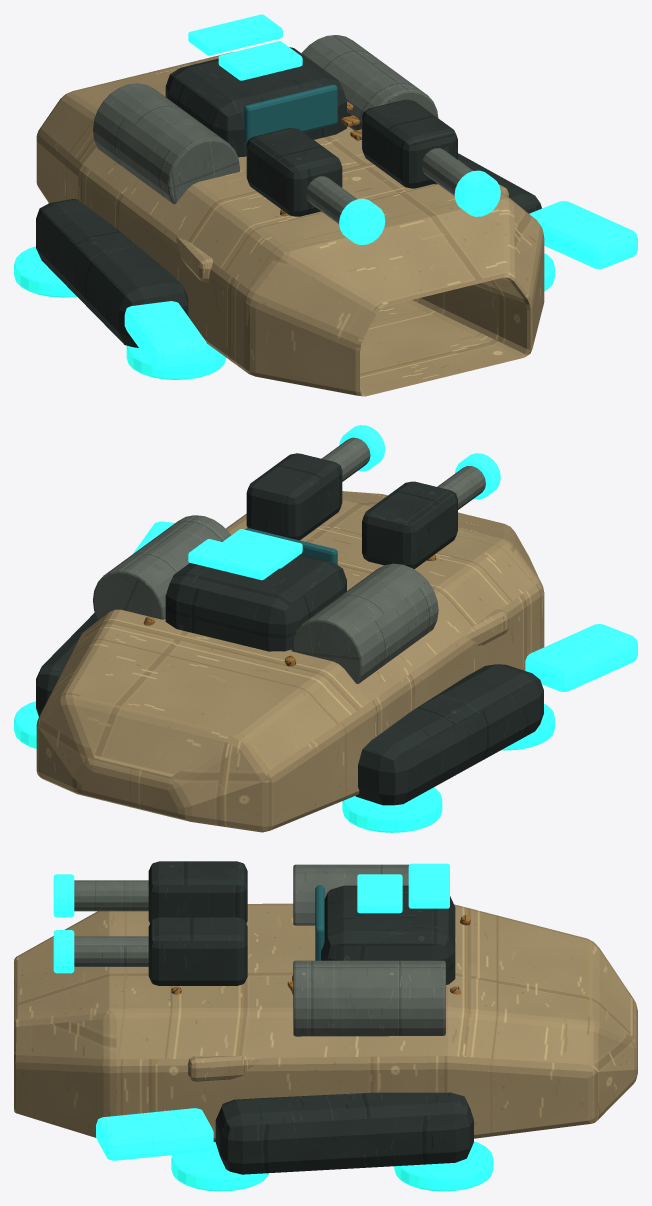
Rendered from lancer.glb.
3 renders of one model, top to bottom at view 1: azimuth 30°, elevation 25°; view 2: azimuth 150°, elevation 25°; view 3: azimuth 270°, elevation 25°, orthographic.
Parts seen in each view (by area): view 1: Prism lancer · swept hover skimmer, Static · Vehicle / dark, TeamColor, Static · Vehicle / steel, Static · Vehicle / energy, Forward prism canopy, Coherent beam lance, Static · Vehicle / armor_light; view 2: Prism lancer · swept hover skimmer, Static · Vehicle / dark, Static · Vehicle / steel, TeamColor, Static · Vehicle / energy, Coherent beam lance, Static · Vehicle / armor_light, Forward prism canopy; view 3: Prism lancer · swept hover skimmer, Static · Vehicle / dark, Static · Vehicle / steel, TeamColor, Static · Vehicle / energy, Coherent beam lance, Static · Vehicle / armor_light, Forward prism canopy.
Part boxes in pixels (x1,y1,x2,y2): Prism lancer · swept hover skimmer: (36, 52, 544, 396); Static · Vehicle / dark: (36, 47, 541, 347); TeamColor: (124, 14, 637, 371); Static · Vehicle / steel: (93, 35, 472, 204); Static · Vehicle / energy: (14, 246, 554, 379); Forward prism canopy: (244, 84, 337, 145); Coherent beam lance: (306, 176, 357, 223); Static · Vehicle / armor_light: (176, 170, 508, 282); Prism lancer · swept hover skimmer: (36, 491, 544, 832); Static · Vehicle / dark: (36, 453, 543, 805); Static · Vehicle / steel: (93, 437, 438, 683); TeamColor: (132, 425, 637, 691); Static · Vehicle / energy: (14, 701, 554, 832); Coherent beam lance: (437, 466, 485, 509); Static · Vehicle / armor_light: (464, 609, 508, 645); Forward prism canopy: (245, 528, 337, 564); Prism lancer · swept hover skimmer: (14, 903, 637, 1141); Static · Vehicle / dark: (148, 861, 473, 1174); Static · Vehicle / steel: (74, 864, 445, 1036); TeamColor: (53, 863, 449, 1160); Static · Vehicle / energy: (171, 1141, 493, 1191); Coherent beam lance: (74, 880, 148, 911); Static · Vehicle / armor_light: (187, 1056, 260, 1081); Forward prism canopy: (315, 885, 324, 960).
Bounding box in the file's own units: 2.68 × 1.13 × 3.02.
Materials: 8 (7 with a texture image).
